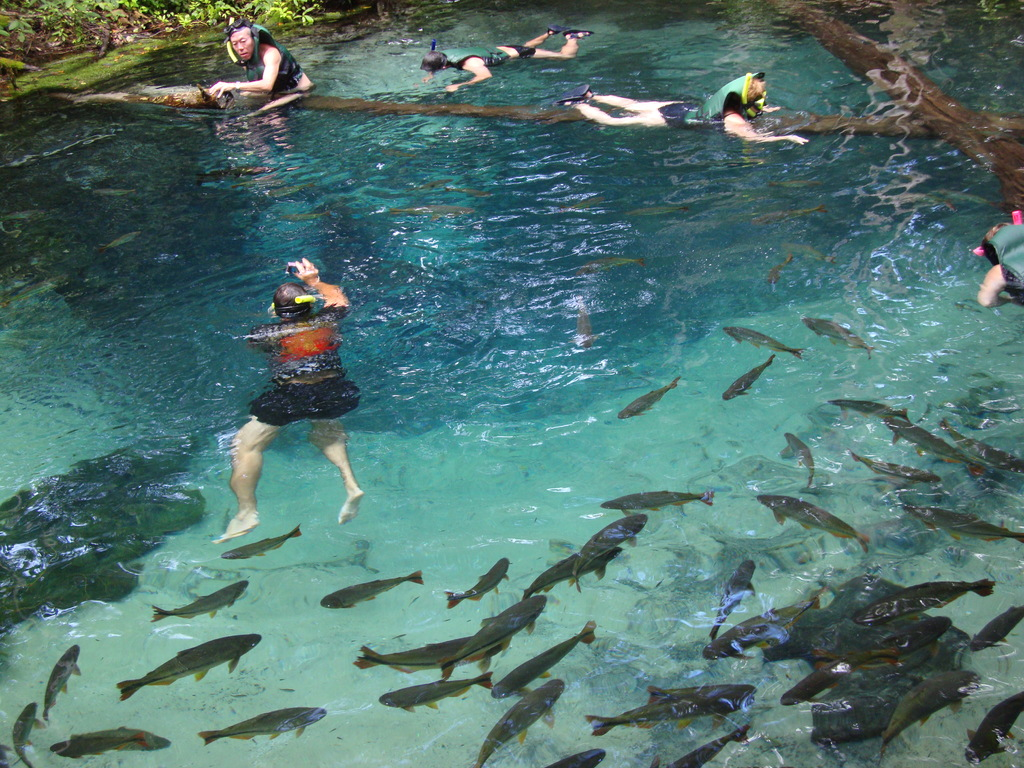Person: (209, 253, 365, 550), (203, 16, 322, 180), (408, 20, 601, 93), (974, 204, 1024, 310)
